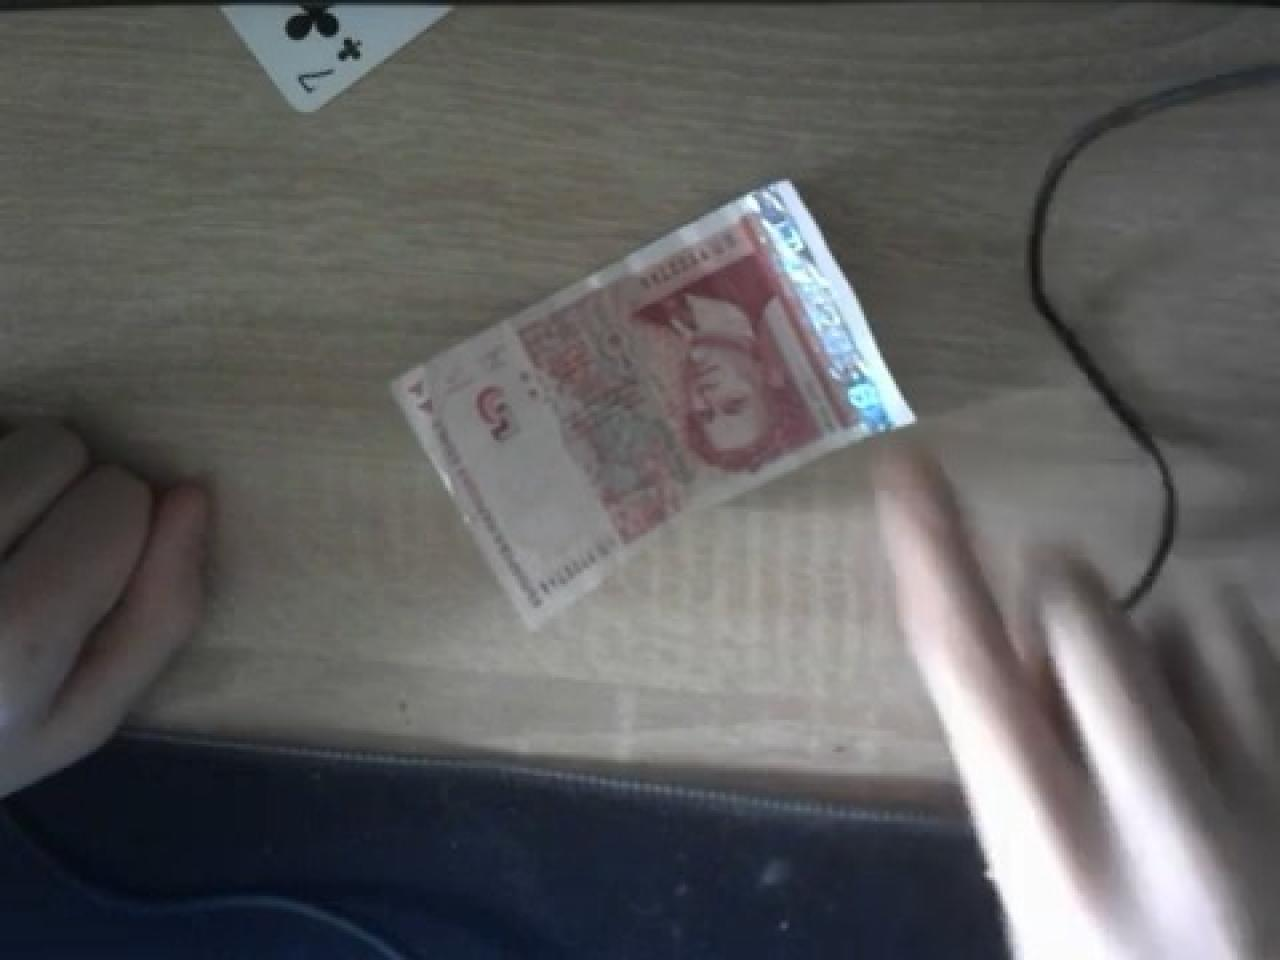5leva: (389, 179, 917, 624)
